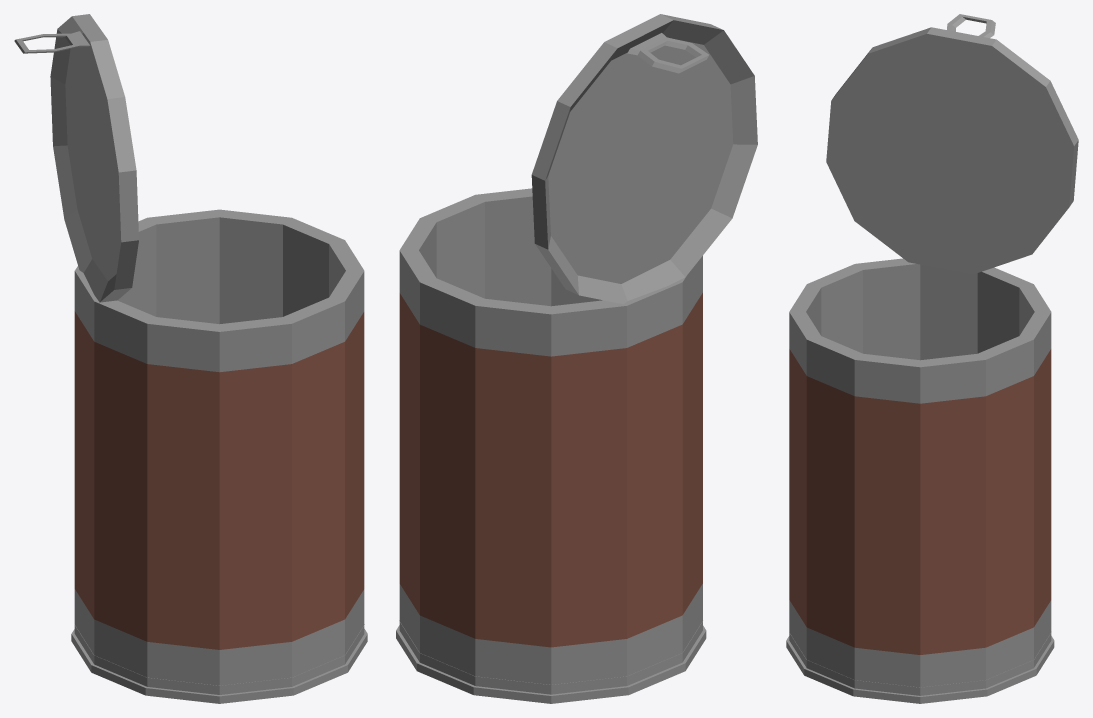
File: Food_Can.fbx
3 renders of one model, left to right at view 1: azimuth 30°, elevation 25°; view 2: azimuth 150°, elevation 25°; view 3: azimuth 270°, elevation 25°, orthographic. The views are drawn at different scales.
Parts seen in each view (by area): view 1: Food_Can; view 2: Food_Can; view 3: Food_Can.
Part boxes in pixels (<box>): Food_Can: <box>14,14,367,703</box>; Food_Can: <box>396,14,757,703</box>; Food_Can: <box>786,14,1078,703</box>.
Size of the model in its own units: 35.67 by 70.75 by 33.15.
